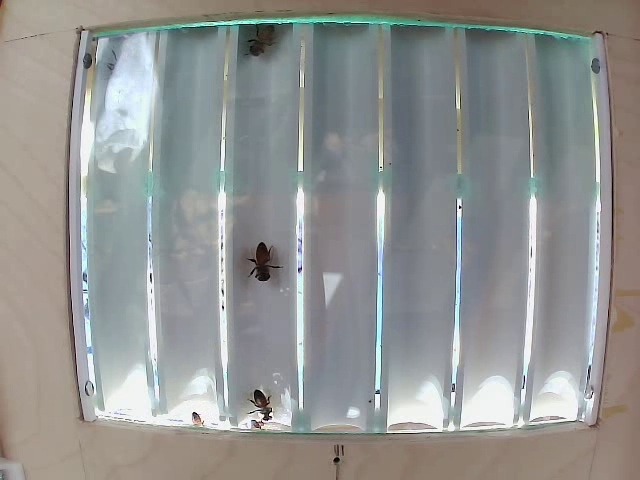bee: (243, 234, 295, 296), (243, 11, 296, 68)
